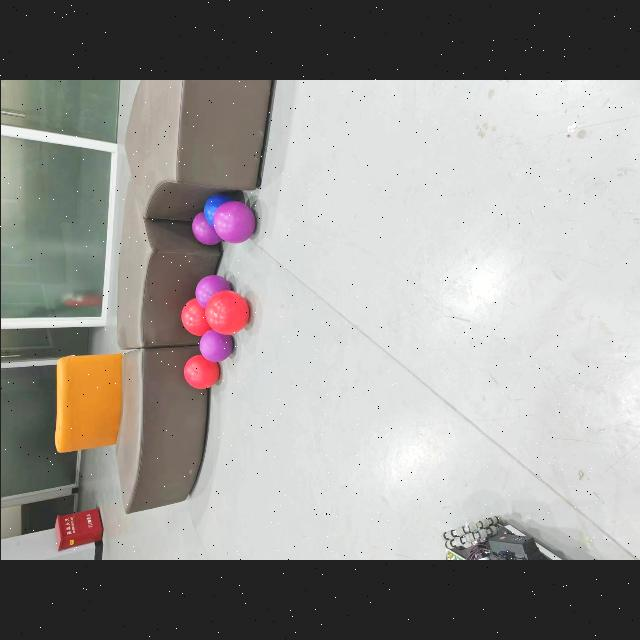B: (203, 193, 233, 227)
P: (213, 201, 255, 243), (194, 275, 231, 308), (199, 330, 232, 362), (191, 213, 221, 244)
R: (204, 290, 249, 335), (182, 354, 218, 389), (180, 298, 210, 336)
